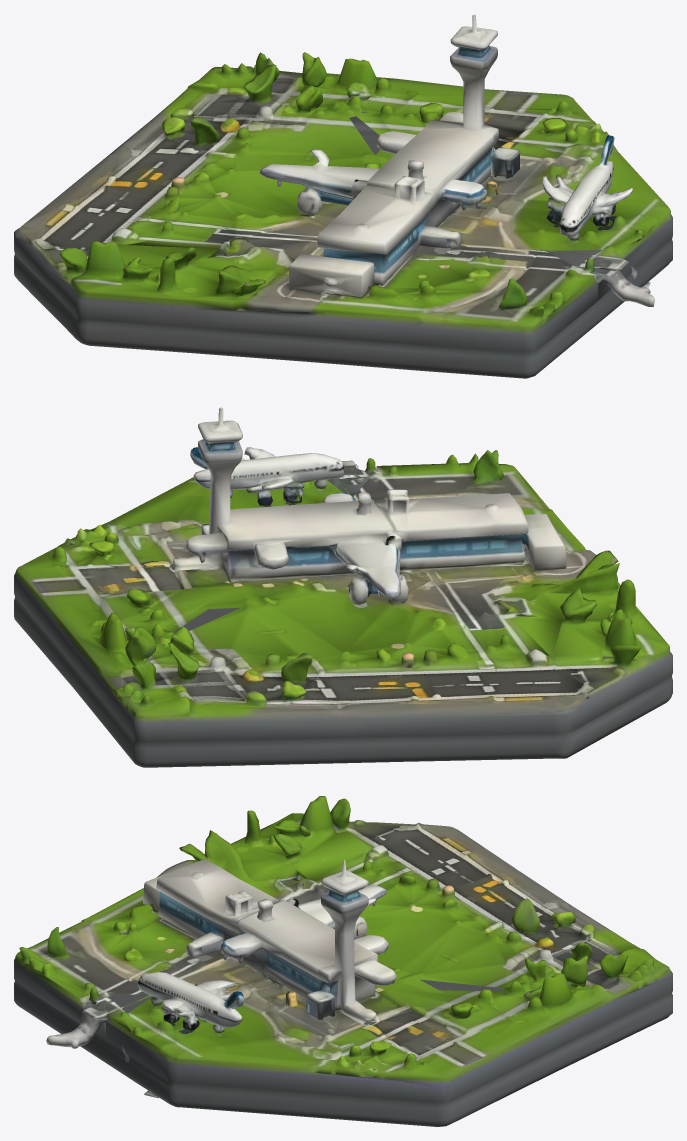
The model's file is narita.glb.
The picture shows the model from 3 angles, top to bottom: view 1: azimuth 30°, elevation 25°; view 2: azimuth 150°, elevation 25°; view 3: azimuth 270°, elevation 25°; orthographic projection. The views are drawn at different scales.
Visible parts, largest first — view 1: tripo_node_9a685367-11c7-4d2c-b9bd-5a7728516b8f; view 2: tripo_node_9a685367-11c7-4d2c-b9bd-5a7728516b8f; view 3: tripo_node_9a685367-11c7-4d2c-b9bd-5a7728516b8f.
Boxes of the visible parts, x1,y1,x2,y2 form: tripo_node_9a685367-11c7-4d2c-b9bd-5a7728516b8f: (14, 14, 672, 378); tripo_node_9a685367-11c7-4d2c-b9bd-5a7728516b8f: (14, 407, 672, 767); tripo_node_9a685367-11c7-4d2c-b9bd-5a7728516b8f: (14, 796, 672, 1126).
Size of the model in its own units: 0.9312 by 0.3346 by 0.9771.
1 material, 1 textured.
